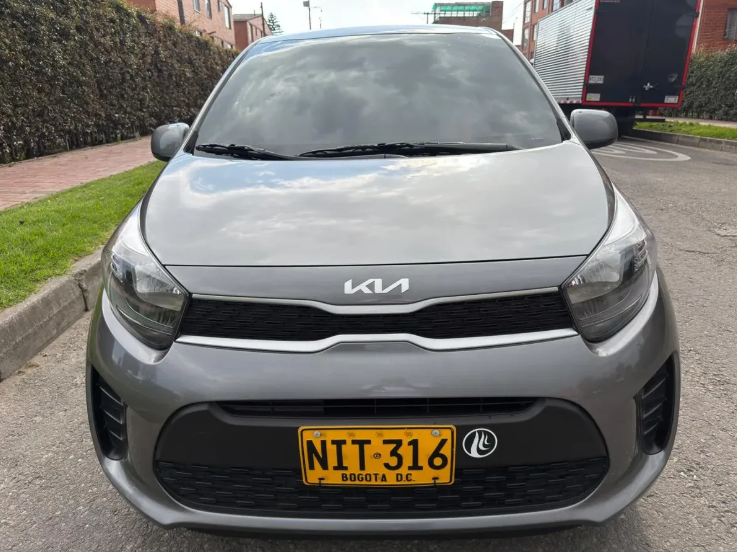placa: (298, 426, 455, 487)
